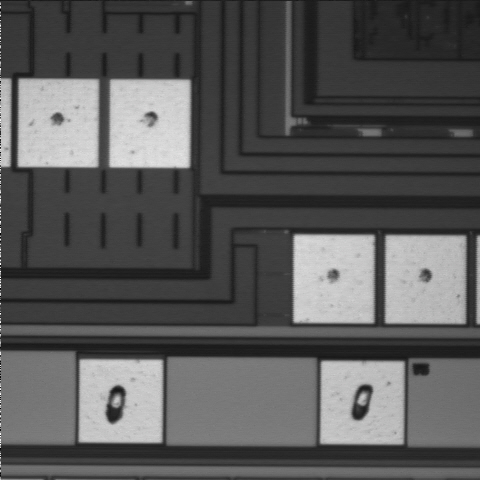pad: (110, 80, 190, 168), (294, 235, 374, 323), (18, 80, 98, 167), (386, 236, 465, 323), (79, 360, 162, 442), (321, 362, 403, 444)
